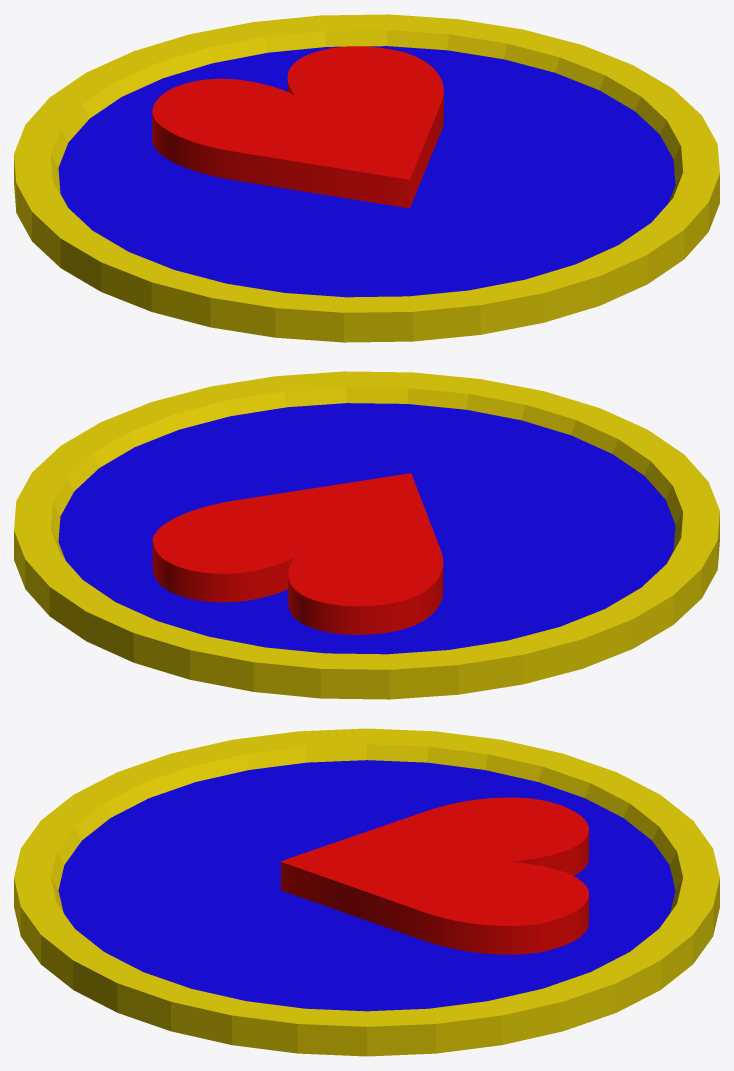
The model's file is heart_coin.gltf.
3 views of the same model, one above another, from view 1: azimuth 30°, elevation 25°; view 2: azimuth 150°, elevation 25°; view 3: azimuth 270°, elevation 25° (orthographic).
Parts seen in each view (by area): view 1: Circle, Text; view 2: Circle, Text; view 3: Circle, Text.
Part boxes in pixels (x1,y1,x2,y2): Circle: [14, 14, 719, 342]; Text: [152, 46, 443, 208]; Circle: [14, 371, 719, 699]; Text: [152, 473, 443, 634]; Circle: [14, 728, 719, 1056]; Text: [281, 797, 588, 954].
Size of the model in its own units: 0.9845 by 0.07 by 0.9845.
